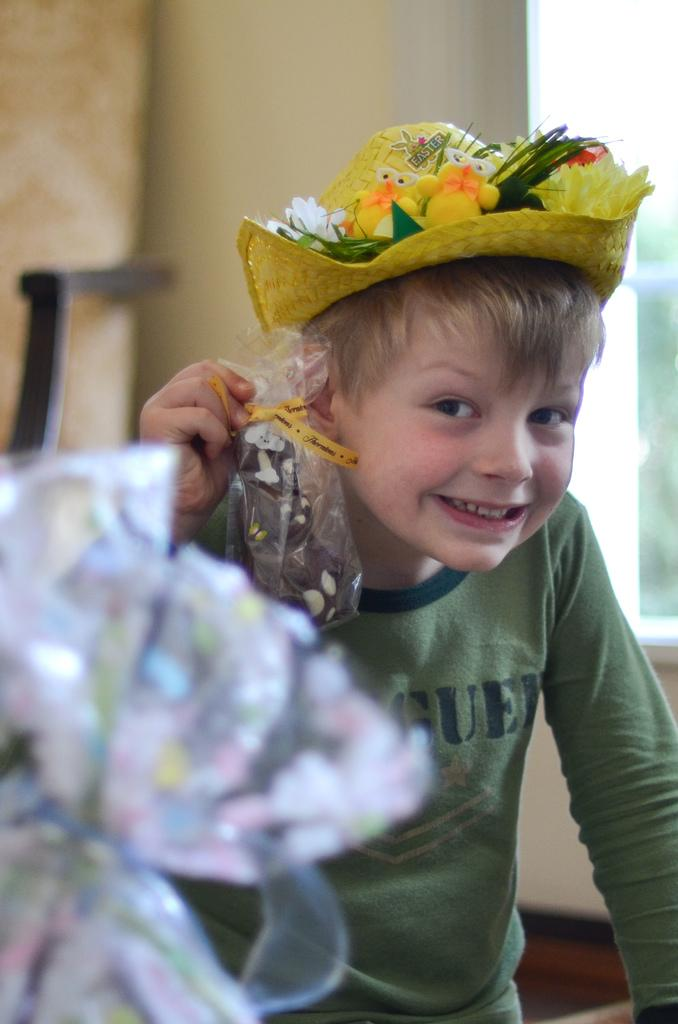Hat: (240, 118, 656, 340)
